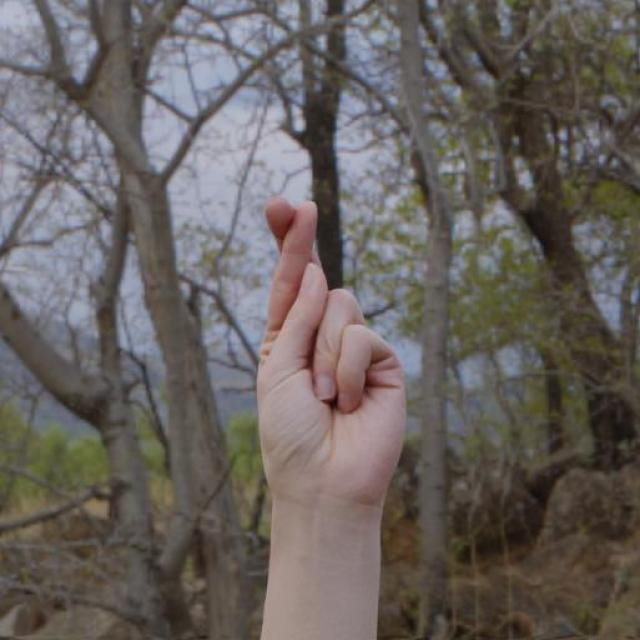R: (253, 191, 413, 509)
